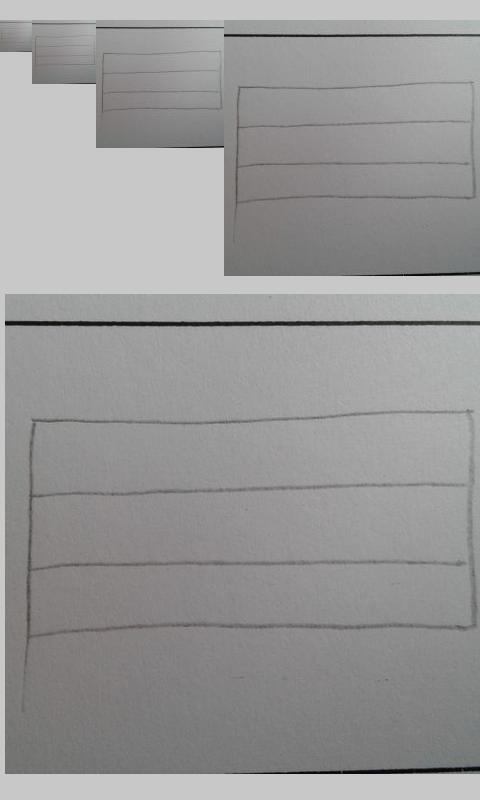list_view: (20, 405, 477, 641), (233, 80, 477, 204), (101, 49, 223, 113), (34, 34, 97, 68), (2, 26, 31, 46)
